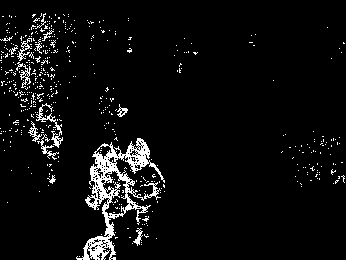person: (130, 138, 170, 246), (87, 140, 129, 236), (28, 100, 69, 185)
